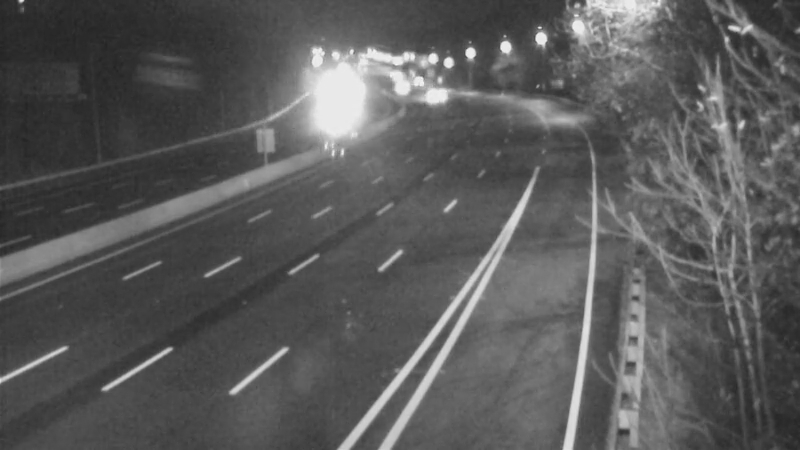vehicle: (373, 60, 423, 110), (403, 69, 453, 119), (305, 86, 355, 136)
